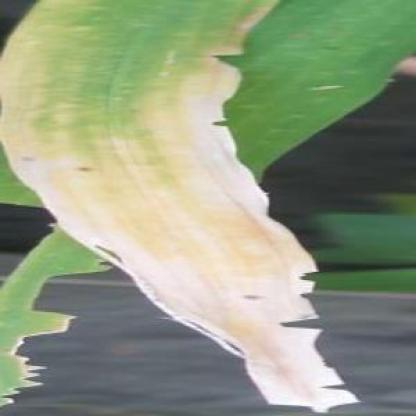Blight: (1, 1, 363, 399)
